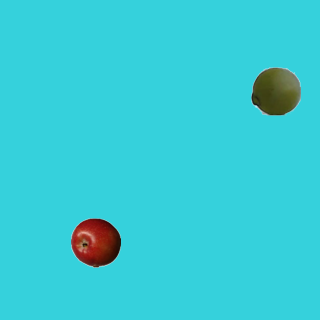Apple Braeburn: (70, 217, 120, 267)
Grape White 4: (250, 65, 300, 115)
